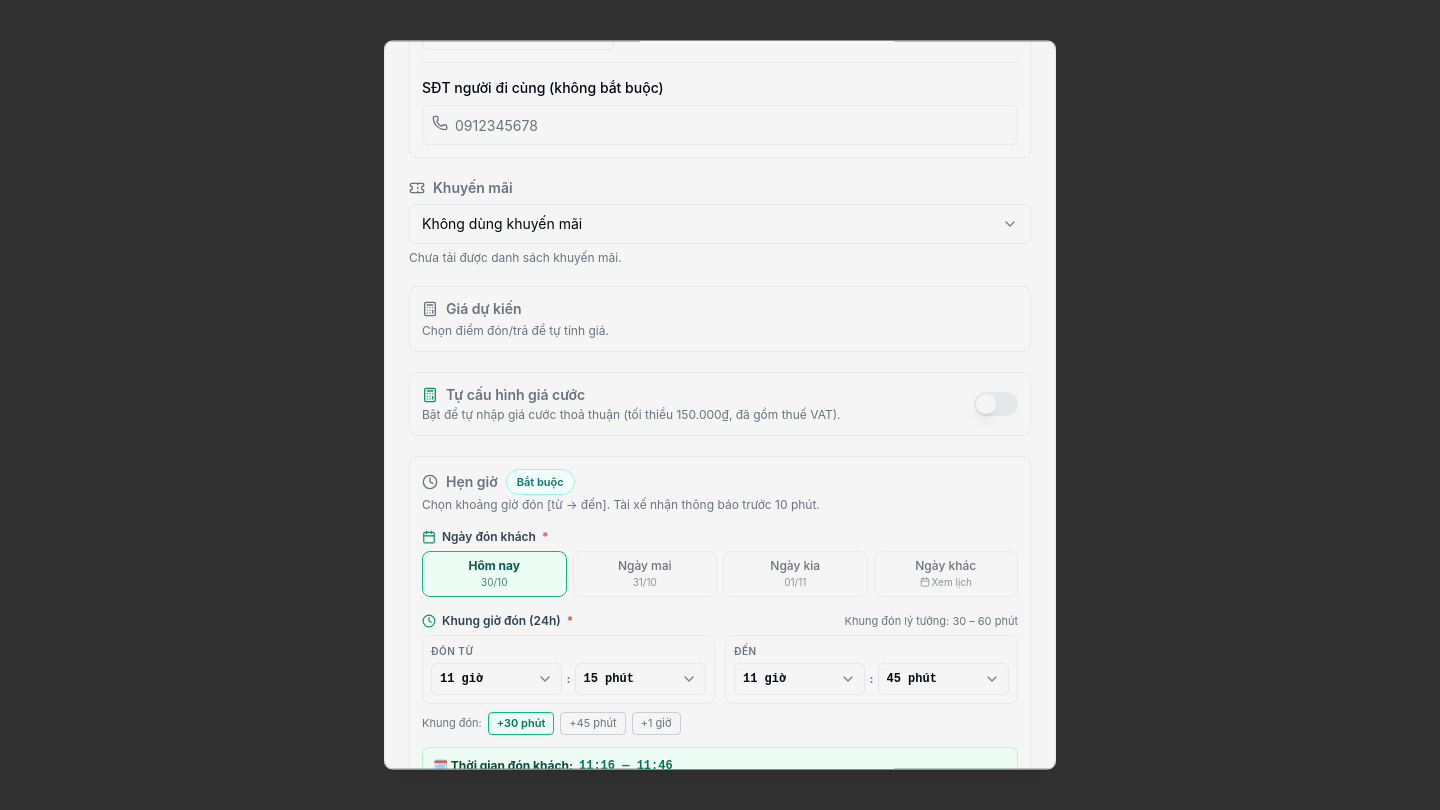
it: CreateBookingDialog — Tự cấu hình giá cước (tối thiểu 150k, đã bao gồm thuế) › hiển thị công tắc "Tự cấu hình giá cước" và khi bật hiển thị ô nhập với mức tối thiểu 150.000₫
The width and height of the screenshot is (1440, 810).
(page scrolled)
Note: Bật công tắc
Click the switch named "Tự cấu hình giá cước".
click(996, 404)  # box [974, 392, 1018, 416]
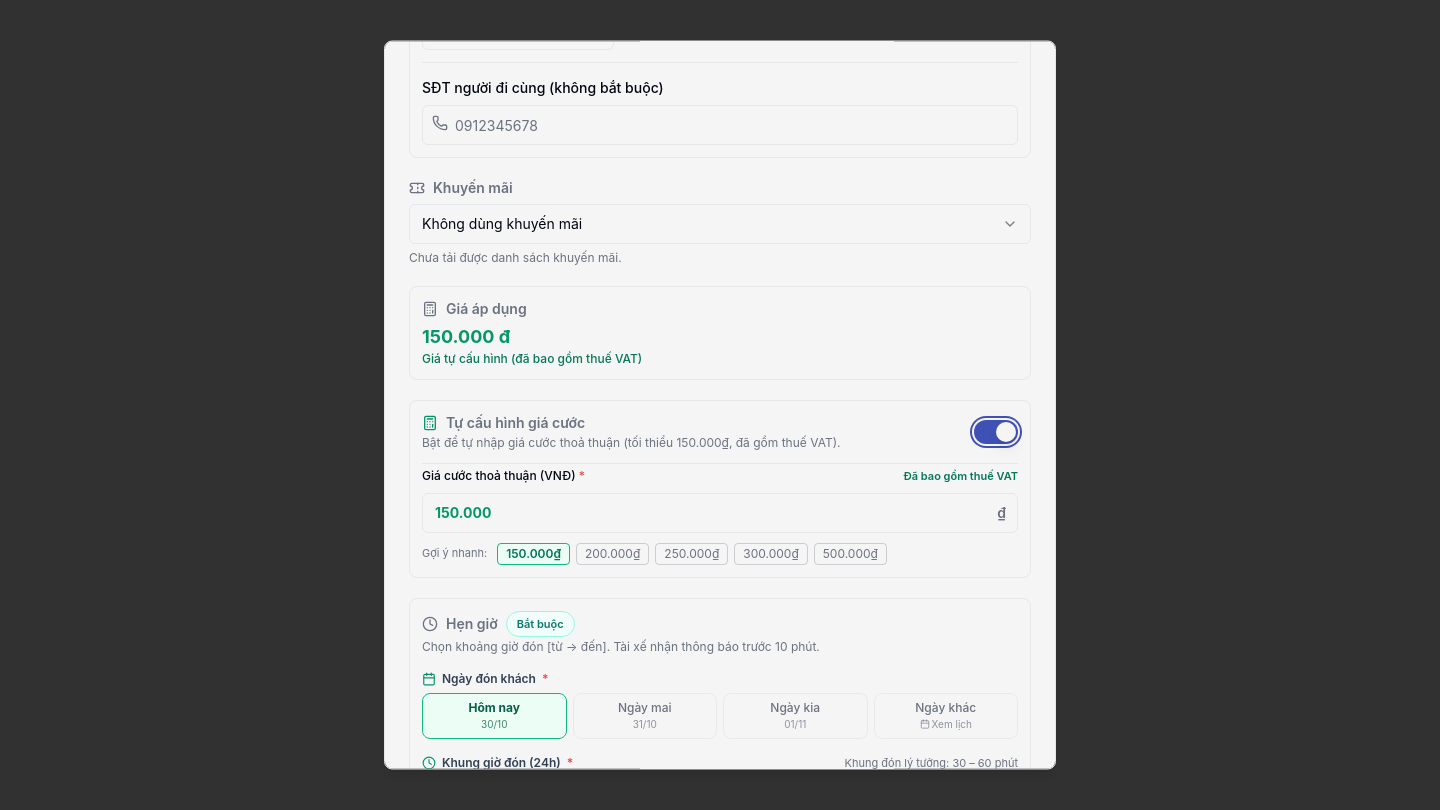
Now the switch named "Tự cấu hình giá cước" is checked, box [974, 420, 1018, 444]
Now the text "Giá tự cấu hình (đã bao gồm thuế VAT)" is shown, box [422, 352, 642, 366]
Now the field labelled "Giá cước thoả thuận (VNĐ) *" holds "150.000", box [422, 493, 1018, 533]
